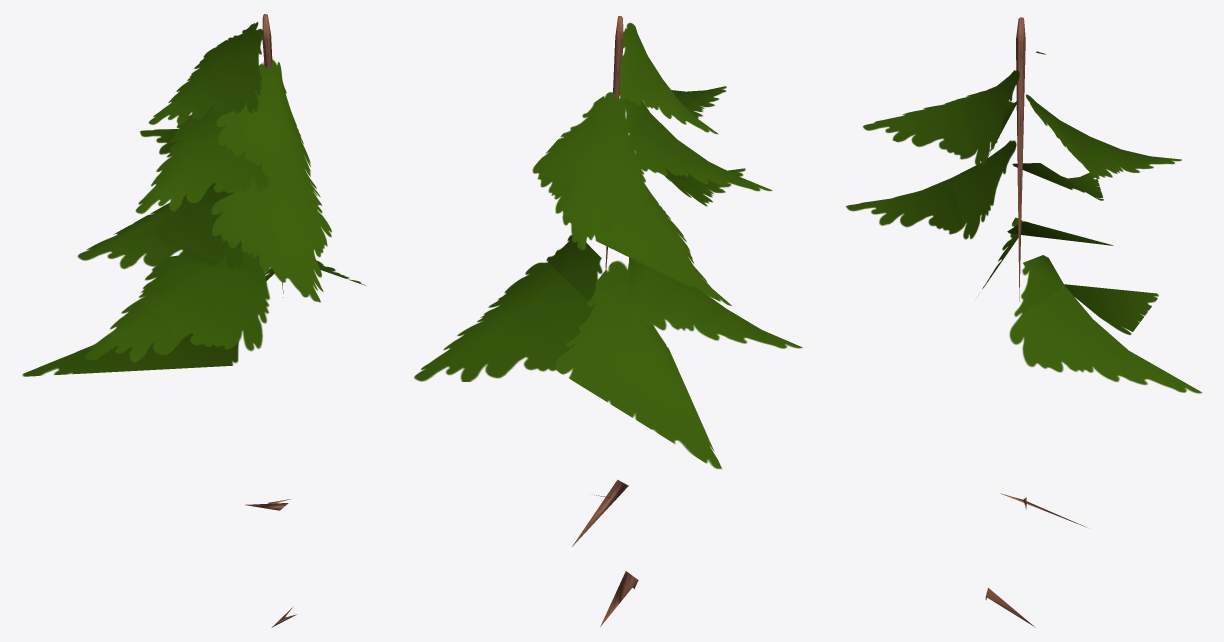
File: pine2_far.glb
3 views of the same model, side by side, from view 1: azimuth 30°, elevation 25°; view 2: azimuth 150°, elevation 25°; view 3: azimuth 270°, elevation 25° (orthographic). The views are drawn at different scales.
Visible parts, largest first — view 1: Pine_3; view 2: Pine_3; view 3: Pine_3.
Part boxes in pixels (bbox=[...]): Pine_3: bbox=[22, 14, 365, 627]; Pine_3: bbox=[414, 16, 802, 626]; Pine_3: bbox=[846, 17, 1202, 627].
Size of the model in its own units: 3.21 by 6.13 by 3.41.
2 materials, 2 textured.
